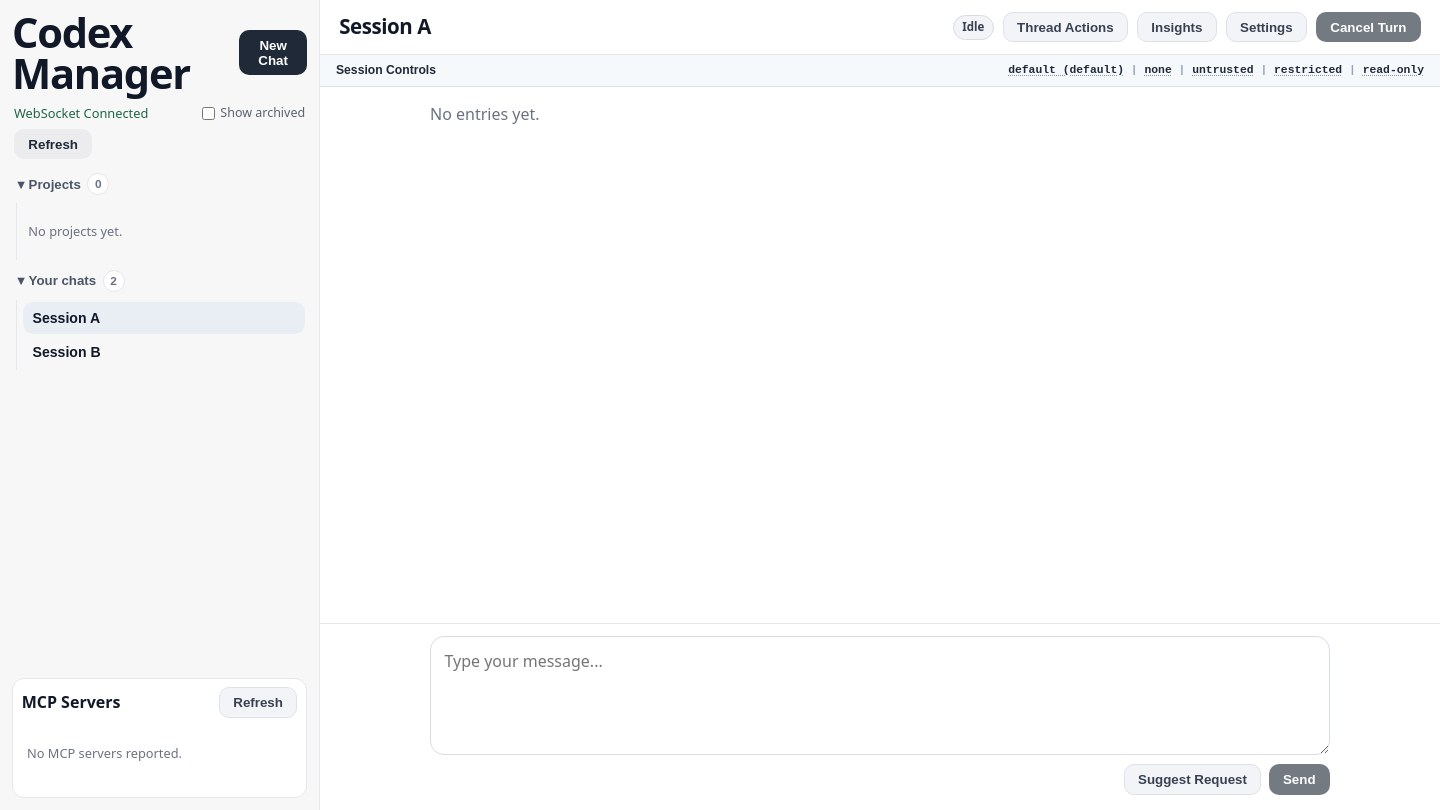
Scenario: settings endpoint wiring › ignores stale transcript and approval responses after switching sessions
Click the button "Session B".
click(67, 352)  # box [23, 336, 305, 368]
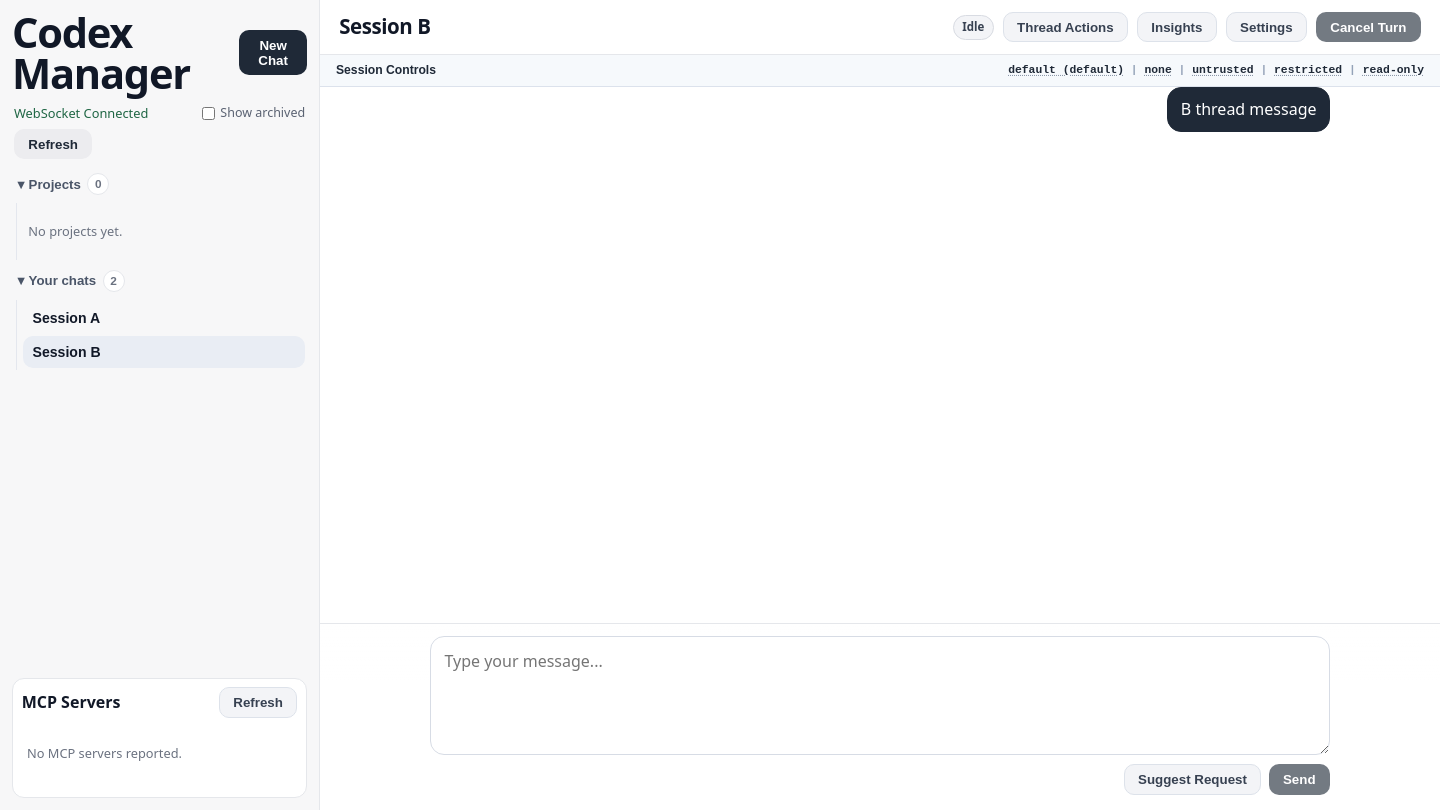
Check: the text "B thread message" is shown, box [1181, 98, 1317, 121]
